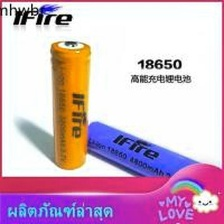battery: (74, 115, 207, 185), (43, 36, 89, 172)
